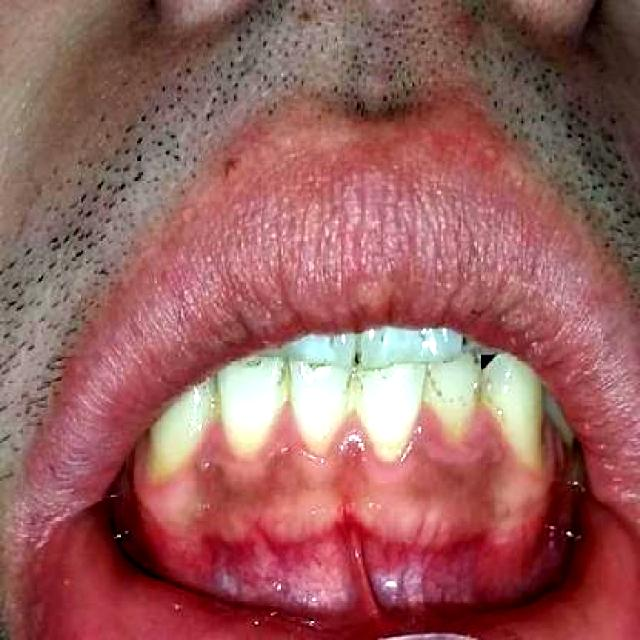Plaque: (190, 405, 517, 513)
